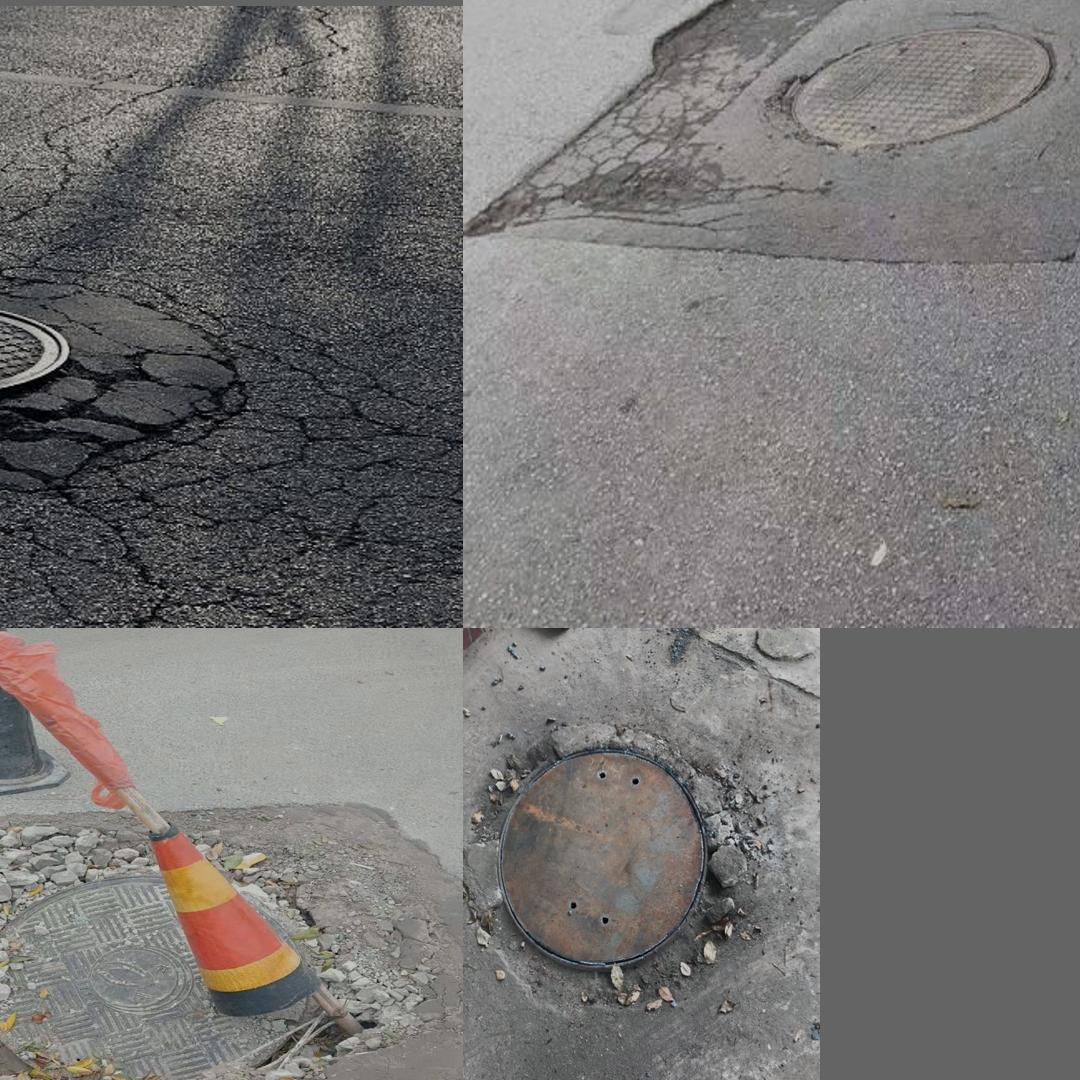circle: (589, 0, 1080, 253), (472, 715, 777, 1029), (0, 869, 349, 1080), (0, 235, 252, 523)
